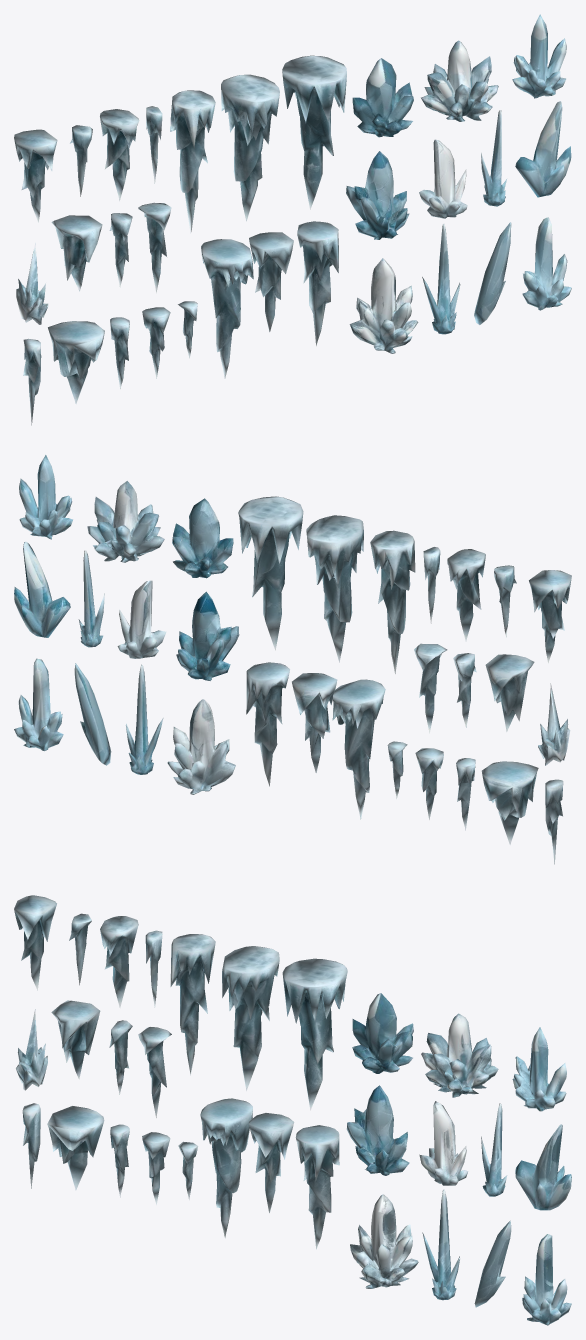
Rendered from Crystal_Lattice.glb.
The picture shows the model from 3 angles, top to bottom: view 1: azimuth 30°, elevation 25°; view 2: azimuth 150°, elevation 25°; view 3: azimuth 330°, elevation 25°; orthographic projection.
Visible parts, largest first — view 1: Crystal_Lattice; view 2: Crystal_Lattice; view 3: Crystal_Lattice.
Part boxes in pixels (x1,y1,x2,y2): Crystal_Lattice: (14,14,571,425); Crystal_Lattice: (14,455,571,864); Crystal_Lattice: (14,895,571,1325).
Size of the model in its own units: 1.9 by 0.9653 by 0.2554.
1 material, 1 textured.
